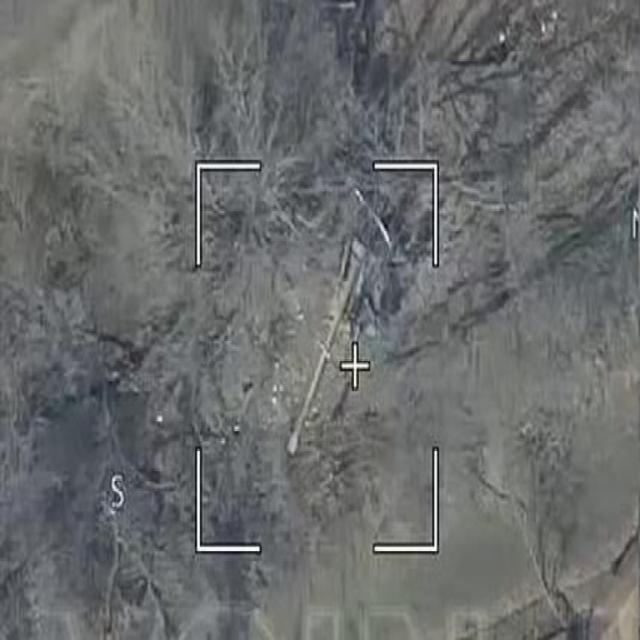ART: (284, 196, 405, 460)
